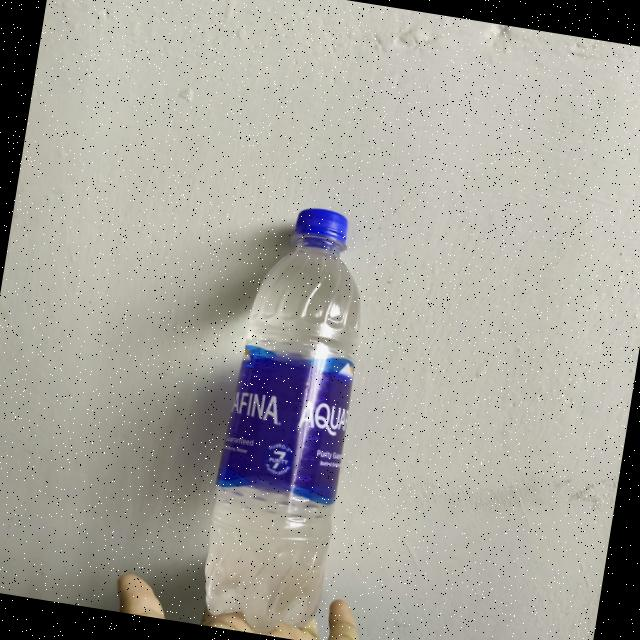bottle: (187, 187, 393, 640)
cap: (284, 197, 356, 260)
label: (212, 338, 366, 524)
